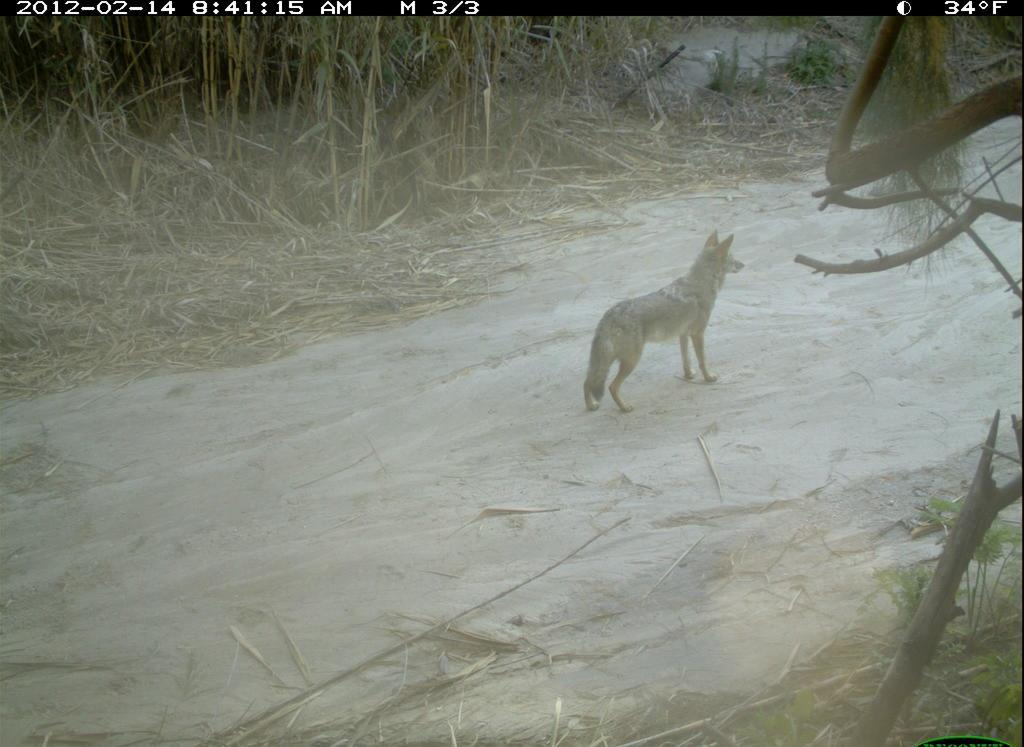coyote: (573, 224, 755, 422)
